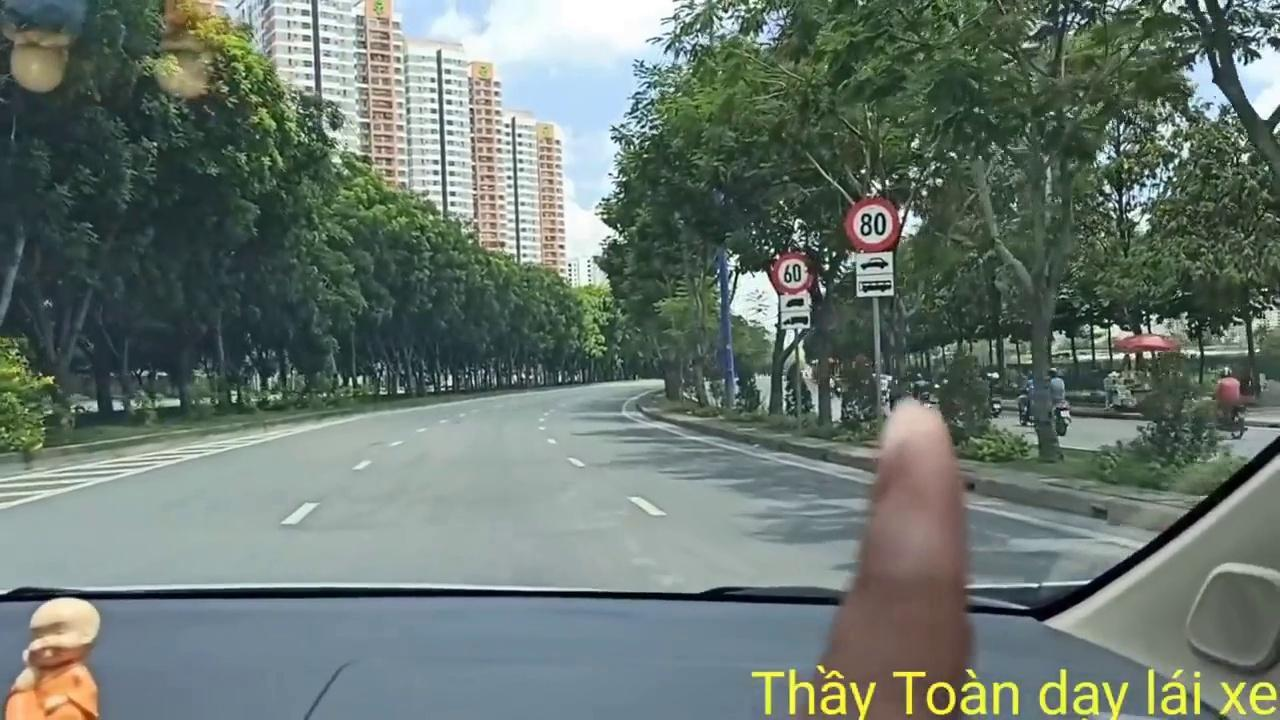Biển phụ: (854, 251, 896, 296), (778, 296, 812, 327)
GIơi hạn tốc độ 60Km/h: (771, 252, 813, 295)
Giới hạn tốc độ 80Km/h: (843, 193, 902, 252)
